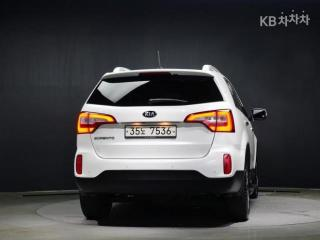3: (130, 126, 135, 135), (161, 126, 166, 135)
5: (155, 125, 161, 135), (135, 126, 140, 136)
6: (166, 126, 173, 135)
7: (148, 126, 155, 135)
plate: (121, 123, 179, 141)
노: (140, 126, 146, 136)
